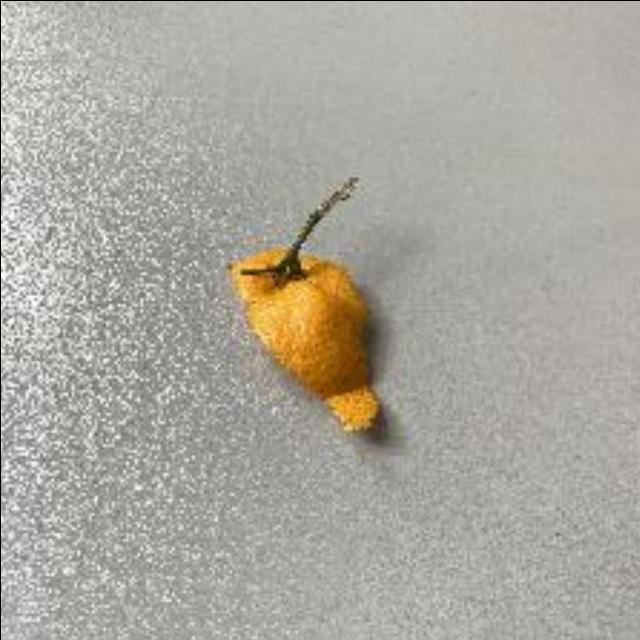orange peel: (228, 233, 392, 438)
